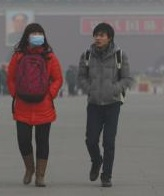person: (8, 20, 64, 187), (77, 21, 132, 189), (10, 13, 29, 42), (65, 65, 77, 96), (1, 63, 10, 96), (150, 68, 160, 95)
